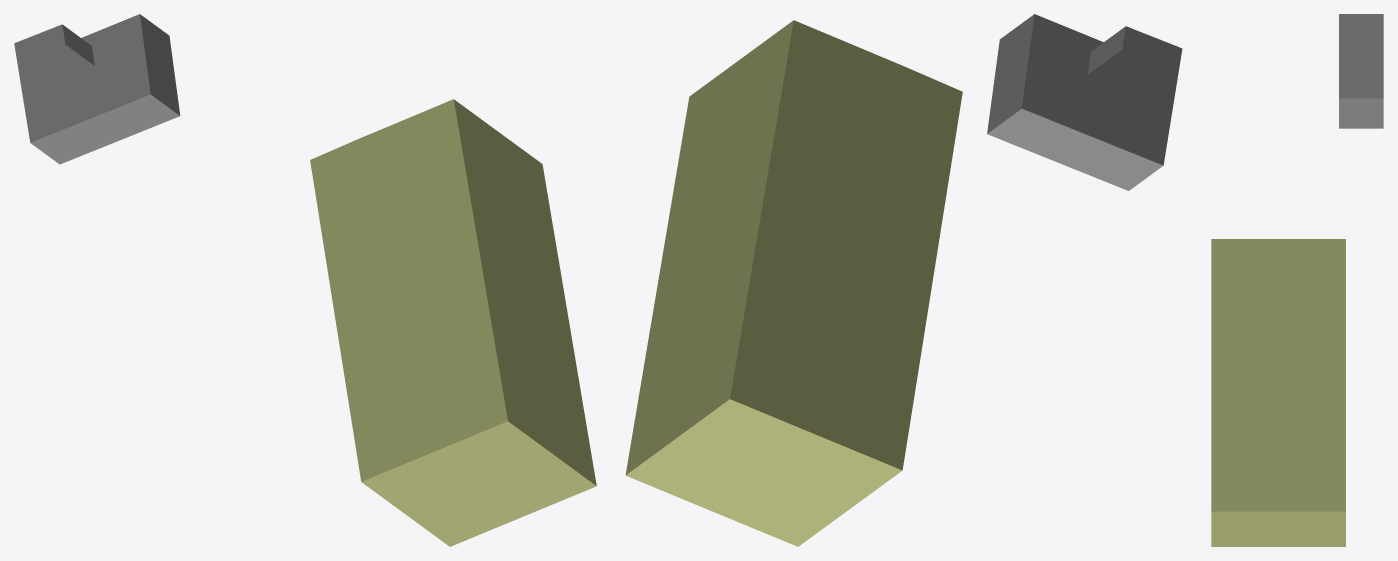
3 renders of one model, left to right at view 1: azimuth 30°, elevation 25°; view 2: azimuth 150°, elevation 25°; view 3: azimuth 270°, elevation 25°, orthographic. The views are drawn at different scales.
Visible parts, largest first — view 1: 0_1_2_0_3_0_1_2_3; view 2: 0_1_2_0_3_0_1_2_3; view 3: 0_1_2_0_3_0_1_2_3.
Part boxes in pixels (box(x1,y1,x2,y2)): 0_1_2_0_3_0_1_2_3: box(14, 14, 596, 546); 0_1_2_0_3_0_1_2_3: box(625, 14, 1182, 546); 0_1_2_0_3_0_1_2_3: box(1211, 14, 1383, 546).
Size of the model in its own units: 27.43 by 28.3 by 11.53.
